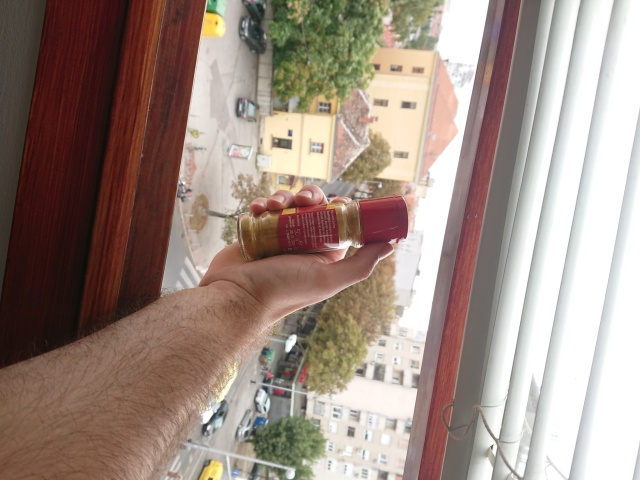Kotanyi Curry Spices Mix 70g: (234, 193, 410, 264)
